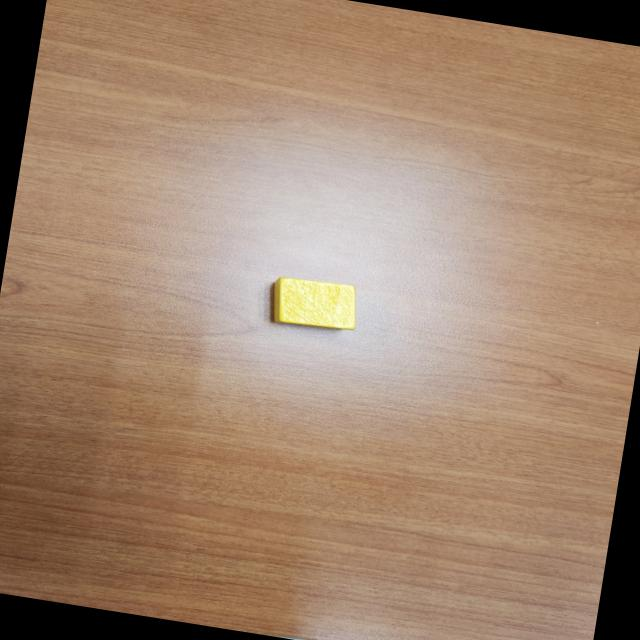yellow: (264, 274, 362, 336)
